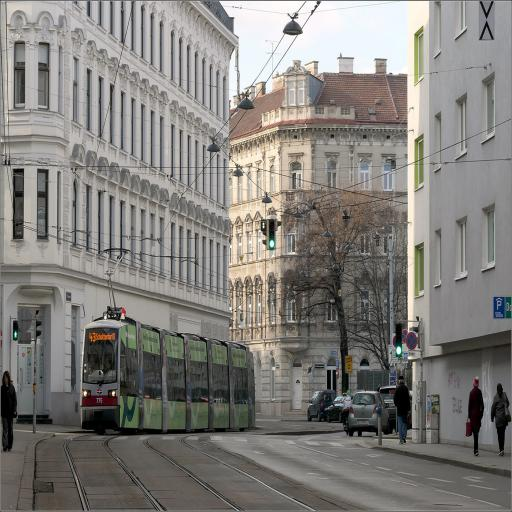ULF: (79, 315, 256, 431)
